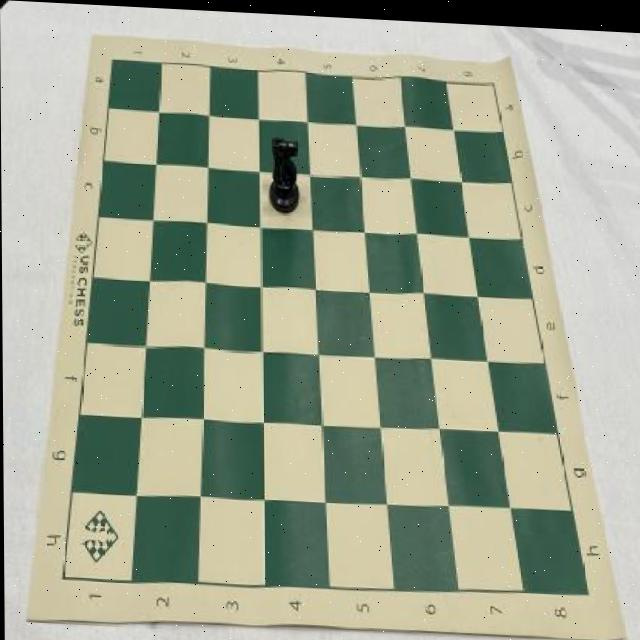black-king: (267, 132, 302, 214)
